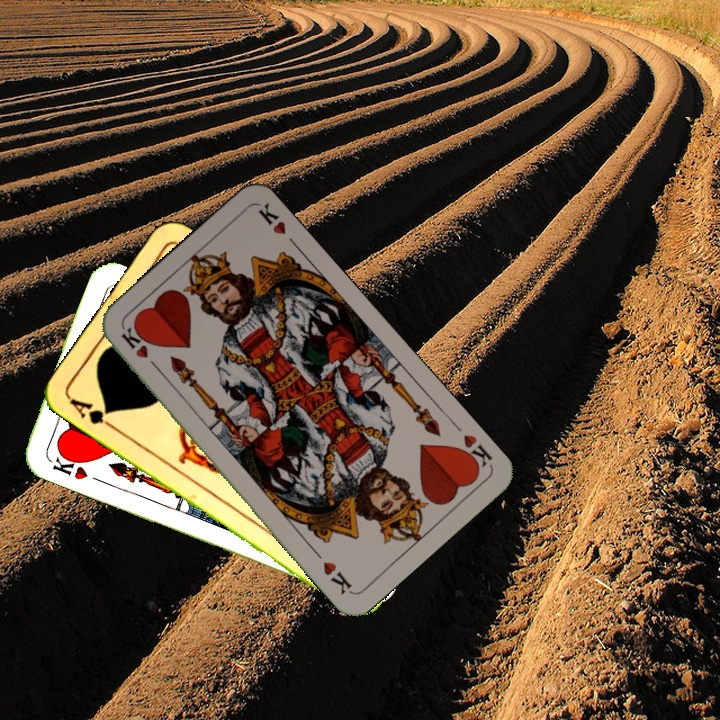GA: (65, 394, 119, 433)
HK: (117, 322, 163, 374), (453, 430, 495, 475), (48, 447, 90, 483)
